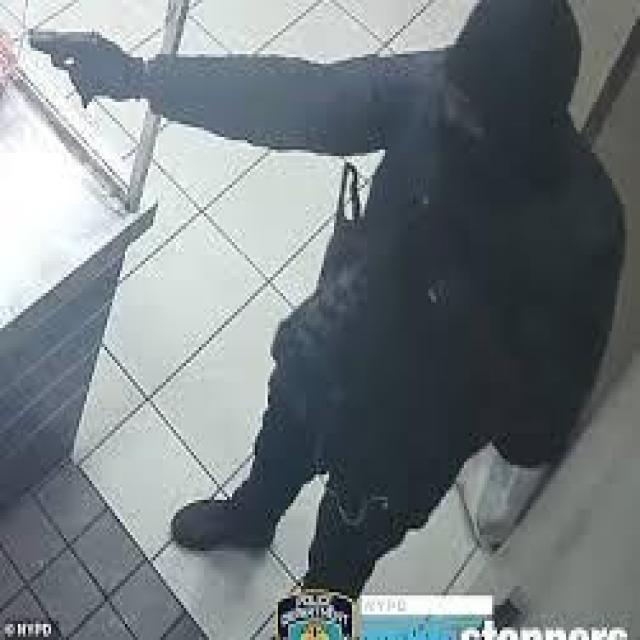gun: (28, 28, 100, 106)
